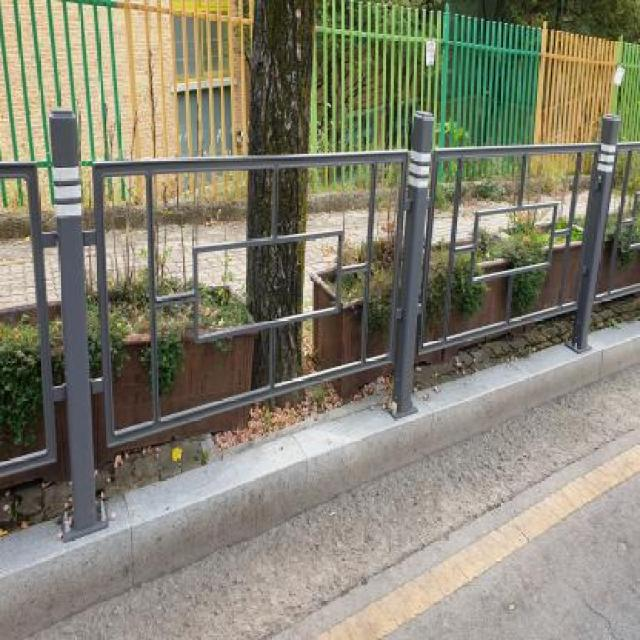fence: (0, 76, 433, 548), (390, 49, 640, 409)
